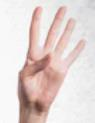right: (16, 3, 87, 110)
